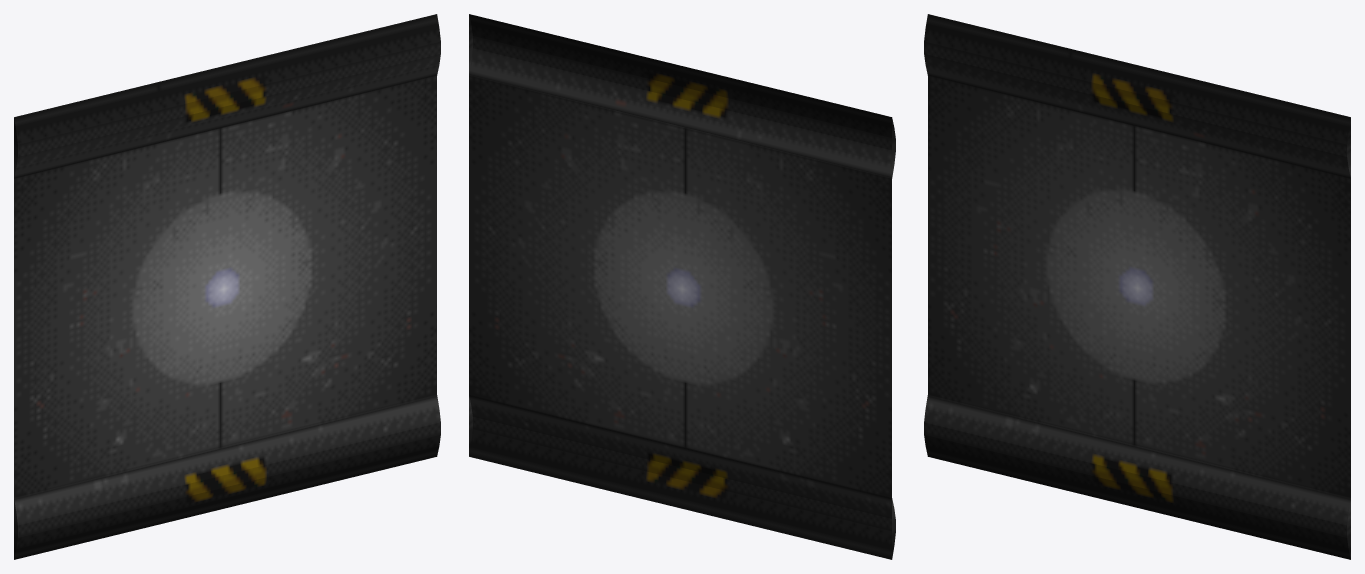
Rendered from maint2_2.fbx.
3 views of the same model, side by side, from view 1: azimuth 30°, elevation 25°; view 2: azimuth 150°, elevation 25°; view 3: azimuth 330°, elevation 25° (orthographic).
Visible parts, largest first — view 1: maint2_2_mesh; view 2: maint2_2_mesh; view 3: maint2_2_mesh.
Boxes of the visible parts, left/top/right/bottom form: maint2_2_mesh: left=14, top=14, right=440, bottom=559; maint2_2_mesh: left=469, top=14, right=895, bottom=559; maint2_2_mesh: left=924, top=14, right=1350, bottom=559.
Bounding box in the file's own units: 256 × 256 × 4.
